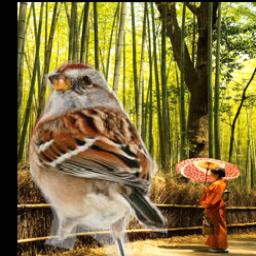Sparrow: (26, 61, 168, 256)
